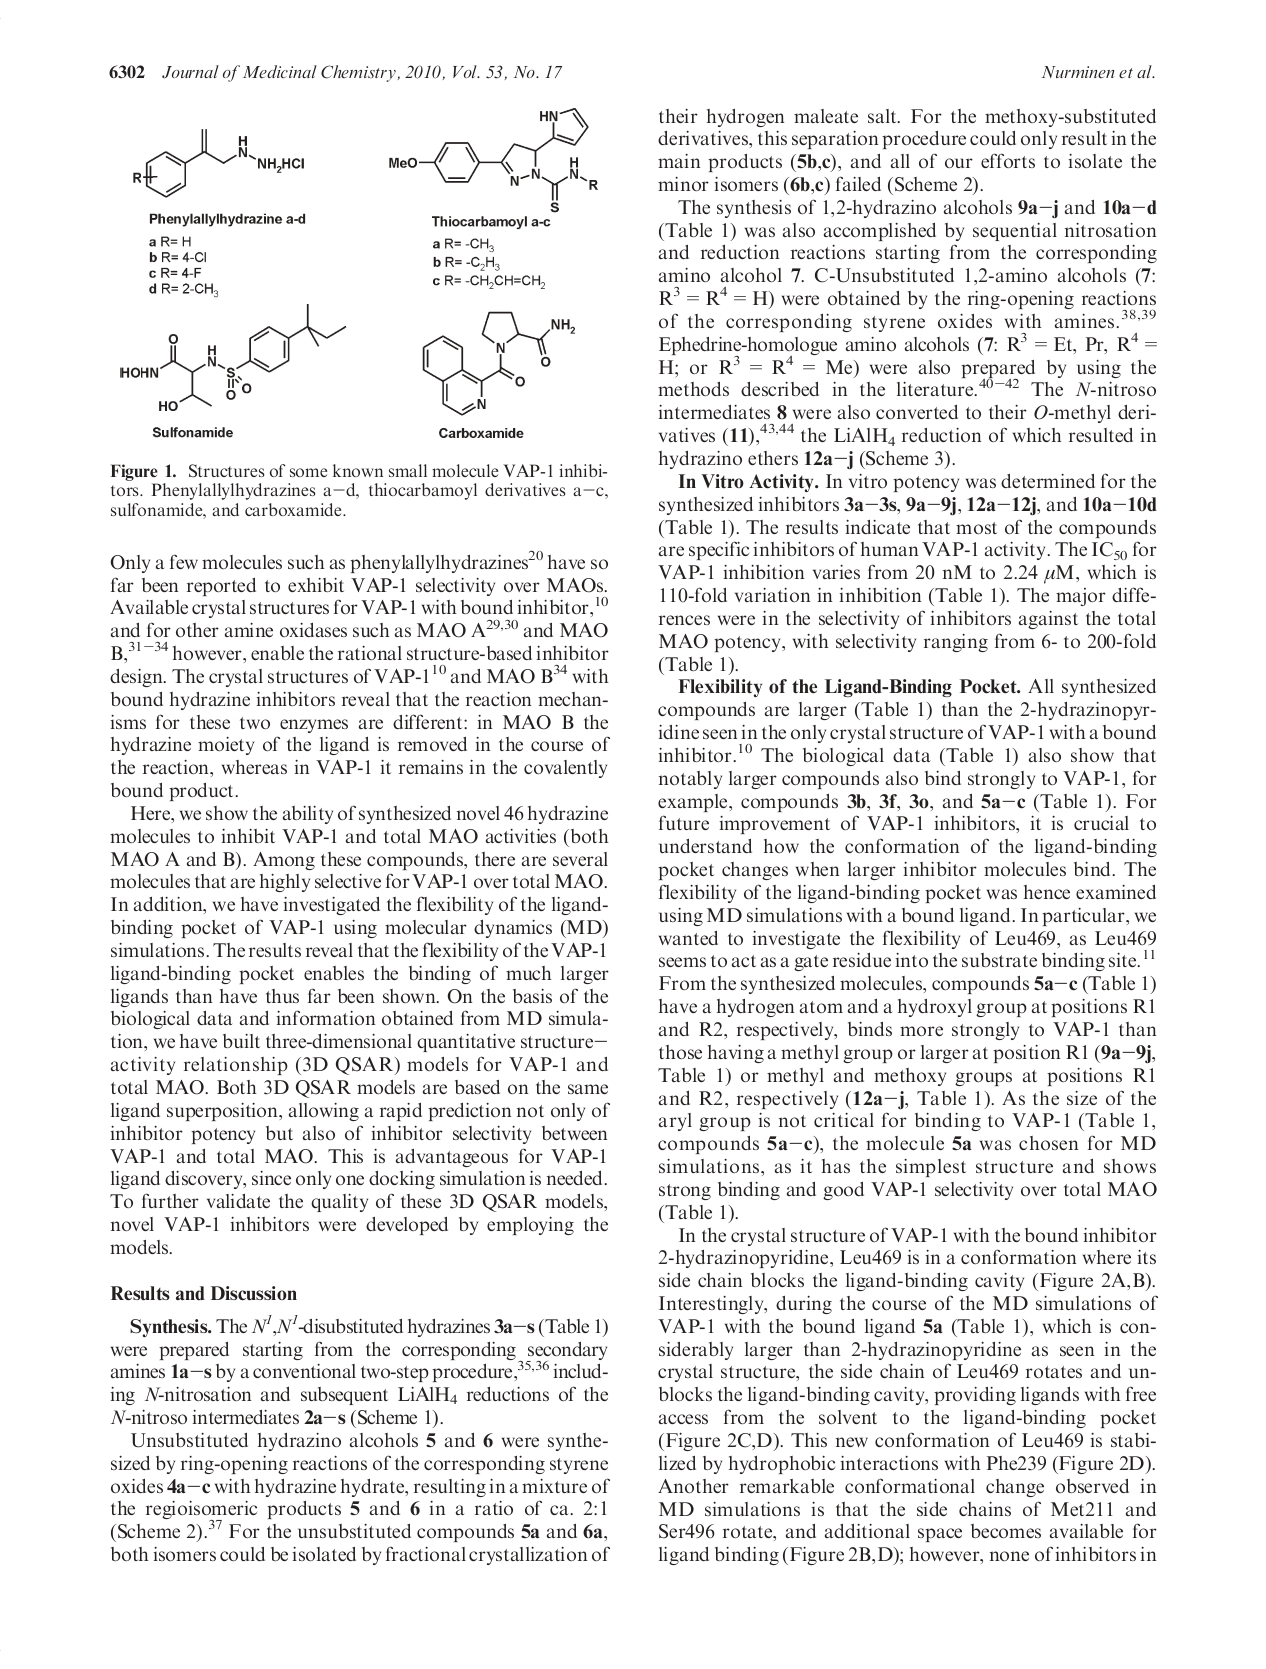exist_molecular: (114, 301, 352, 414), (388, 105, 597, 203), (419, 309, 581, 418), (129, 128, 309, 199)
